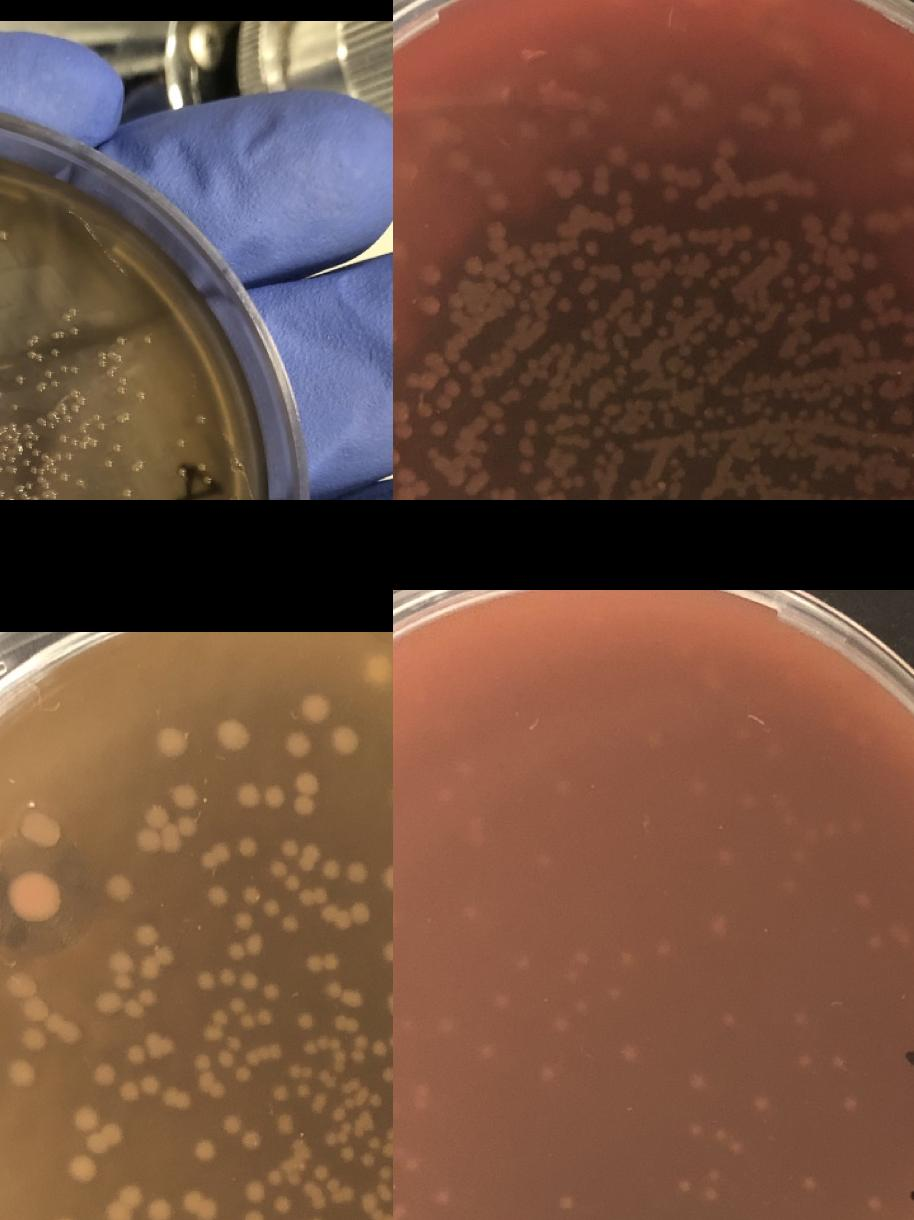assalmonicida: (23, 458, 50, 490), (64, 388, 86, 423), (58, 432, 96, 450), (24, 440, 50, 462), (43, 369, 58, 388), (128, 458, 144, 475), (115, 376, 128, 396), (91, 413, 104, 431), (24, 334, 40, 348), (46, 330, 66, 341), (26, 350, 44, 362), (95, 350, 107, 368), (61, 308, 76, 322), (116, 411, 131, 424), (28, 495, 51, 500), (0, 452, 5, 464)
pddamselae: (6, 971, 48, 1054), (301, 1012, 366, 1065), (192, 1034, 244, 1098), (267, 858, 330, 906), (142, 809, 198, 854), (321, 1106, 356, 1163), (228, 996, 274, 1032), (320, 900, 372, 931), (358, 1124, 393, 1167), (105, 1185, 142, 1220), (106, 945, 132, 992), (226, 934, 266, 962), (139, 947, 175, 978), (180, 1190, 217, 1220), (284, 1062, 312, 1100), (86, 1124, 121, 1154), (235, 1048, 262, 1086), (123, 988, 156, 1019), (294, 774, 316, 818), (201, 844, 232, 872), (218, 718, 246, 749), (303, 691, 331, 722), (202, 1009, 228, 1042), (7, 1061, 35, 1091), (30, 816, 58, 846), (68, 1156, 96, 1186), (158, 727, 186, 757), (171, 782, 199, 812), (285, 732, 313, 762), (331, 727, 359, 757), (372, 1164, 392, 1205), (296, 842, 321, 874), (106, 874, 132, 904), (141, 1032, 176, 1054), (159, 1087, 190, 1111), (304, 954, 341, 974), (91, 1063, 118, 1087), (370, 1030, 393, 1058), (72, 1108, 98, 1132), (191, 1139, 217, 1163), (241, 1182, 267, 1206), (146, 1198, 173, 1220), (379, 1066, 393, 1099), (219, 1115, 240, 1135), (234, 910, 254, 931), (126, 1046, 146, 1066), (136, 925, 156, 945), (139, 1073, 159, 1093), (207, 886, 227, 906), (217, 968, 237, 988), (238, 836, 258, 856), (239, 972, 259, 992), (242, 884, 262, 904), (260, 897, 280, 917), (260, 980, 280, 1000), (263, 788, 283, 808), (272, 1082, 292, 1102), (274, 1112, 294, 1132), (278, 914, 298, 934), (278, 838, 298, 858), (294, 1010, 314, 1030), (318, 860, 338, 880), (322, 980, 342, 1000), (346, 862, 366, 882), (382, 943, 393, 978), (238, 785, 257, 805), (196, 971, 214, 991), (242, 1132, 260, 1152), (381, 864, 393, 894), (120, 1084, 139, 1102), (266, 1169, 283, 1187), (311, 1163, 328, 1181), (365, 1091, 382, 1109), (324, 1178, 342, 1194)
pdpiscicida: (710, 1122, 748, 1160), (833, 709, 871, 744), (797, 820, 838, 848), (698, 1164, 722, 1208), (393, 1143, 419, 1176), (680, 1116, 704, 1138), (794, 1049, 818, 1071), (475, 1042, 498, 1064), (570, 944, 593, 966), (643, 730, 666, 752), (826, 1051, 849, 1073), (413, 1077, 435, 1099), (430, 1189, 452, 1211), (437, 1016, 459, 1038), (459, 904, 481, 926), (512, 954, 534, 976), (532, 1064, 554, 1086), (533, 852, 555, 874), (550, 1012, 572, 1034), (551, 778, 573, 800), (555, 1191, 577, 1213), (562, 966, 584, 988), (574, 994, 596, 1016), (601, 982, 623, 1004), (610, 950, 632, 972), (618, 1044, 640, 1066), (652, 935, 674, 957), (672, 1172, 694, 1194), (684, 778, 706, 800), (686, 1071, 708, 1093), (708, 912, 730, 934), (714, 850, 736, 872), (720, 1010, 742, 1032), (736, 792, 758, 814), (750, 1094, 772, 1116), (779, 876, 801, 898), (780, 810, 802, 832), (782, 850, 804, 872), (790, 1010, 812, 1032), (798, 1174, 820, 1196), (839, 1094, 861, 1116), (852, 886, 874, 908), (864, 926, 886, 948), (864, 1194, 886, 1216), (889, 928, 911, 950), (466, 822, 489, 843), (435, 784, 456, 806), (489, 992, 512, 1012), (393, 1096, 403, 1118), (393, 1202, 405, 1220)
vangil: (534, 474, 585, 500), (860, 308, 900, 331), (498, 386, 522, 406), (448, 296, 464, 324), (458, 427, 475, 443), (462, 480, 479, 496), (430, 421, 448, 436), (434, 396, 452, 411), (468, 456, 484, 472), (444, 380, 458, 396), (398, 424, 412, 438), (404, 374, 418, 388), (418, 404, 432, 418), (426, 446, 440, 460), (458, 361, 472, 375), (519, 462, 533, 476), (570, 258, 584, 272), (586, 241, 600, 255), (618, 192, 632, 206), (672, 296, 686, 310), (739, 313, 753, 327), (746, 336, 760, 350), (796, 262, 810, 276), (797, 332, 811, 346), (882, 286, 896, 300), (524, 423, 538, 436), (472, 384, 484, 398), (490, 424, 504, 436), (496, 270, 510, 282), (519, 374, 533, 386), (632, 264, 644, 278), (664, 187, 676, 201), (782, 278, 796, 290), (838, 296, 852, 308), (844, 248, 858, 260), (824, 278, 836, 290)
